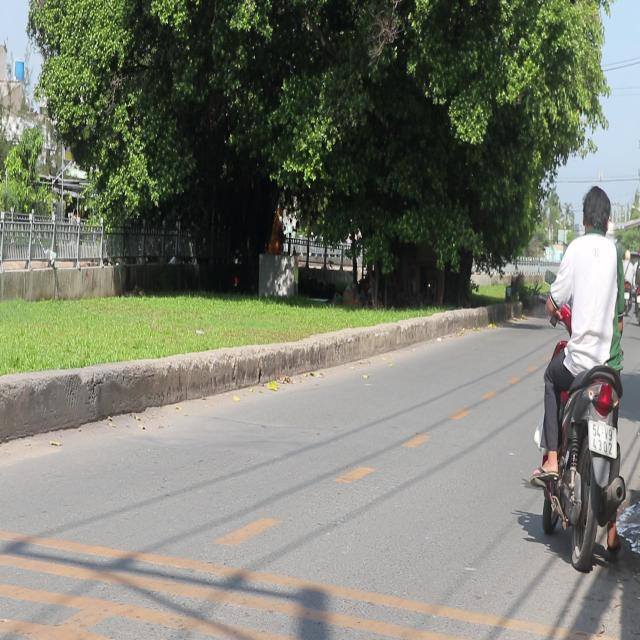licenseplate: (529, 180, 637, 570)
motorcyclist: (581, 184, 612, 236)
nohelmet: (588, 421, 617, 458)
